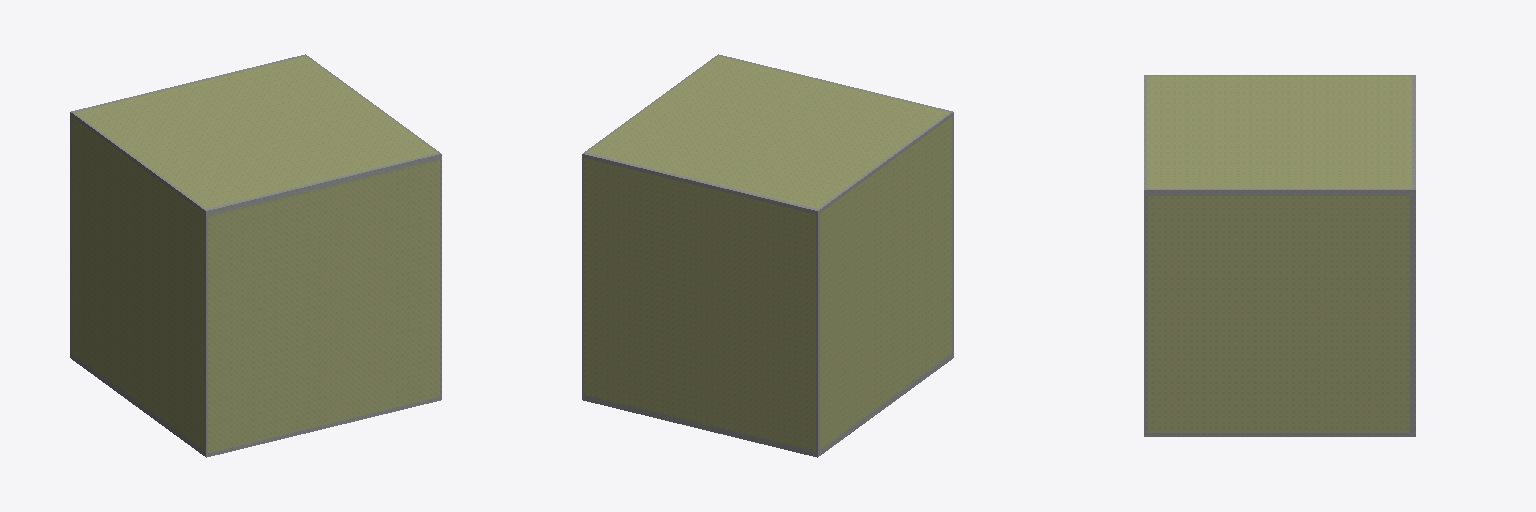
3 views of the same model, side by side, from view 1: azimuth 30°, elevation 25°; view 2: azimuth 150°, elevation 25°; view 3: azimuth 270°, elevation 25° (orthographic).
Visible parts, largest first — view 1: cube1; view 2: cube1; view 3: cube1.
Boxes of the visible parts, <box> form: cube1: <box>70,54,441,457</box>; cube1: <box>582,54,953,457</box>; cube1: <box>1144,75,1415,436</box>.
Size of the model in its own units: 2 by 2 by 2.
1 materials, 1 textured.